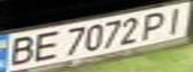0: (81, 21, 106, 52)
2: (118, 14, 148, 45)
7: (100, 17, 127, 48), (60, 25, 87, 56)
B: (0, 34, 42, 68)
E: (27, 29, 63, 64)
I: (157, 3, 193, 35)
P: (136, 8, 175, 39)
